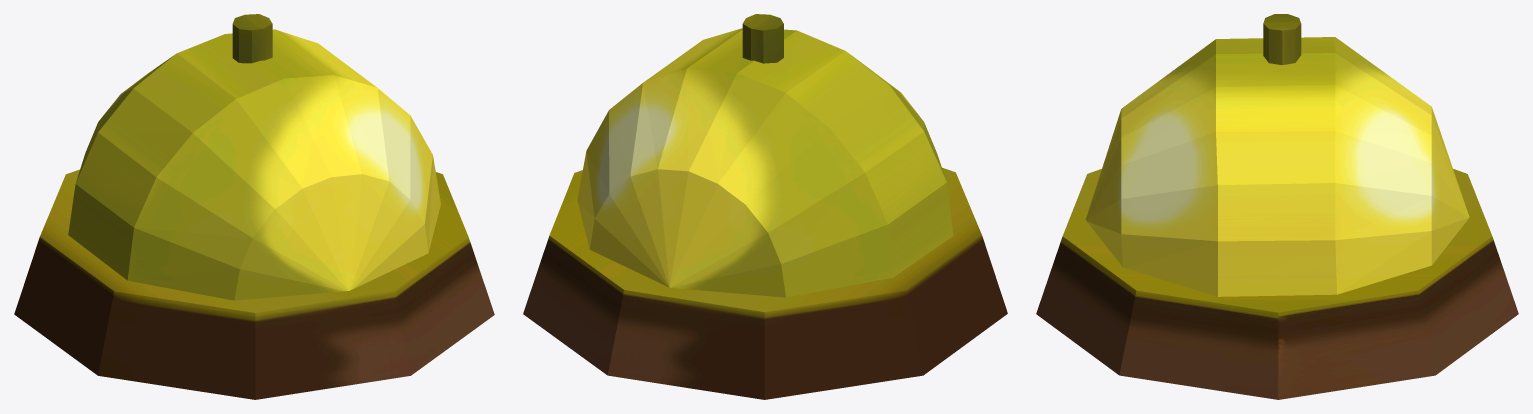
The model's file is bell.glb.
3 views of the same model, side by side, from view 1: azimuth 30°, elevation 25°; view 2: azimuth 150°, elevation 25°; view 3: azimuth 270°, elevation 25° (orthographic).
Parts seen in each view (by area): view 1: bell; view 2: bell; view 3: bell.
Part boxes in pixels (bbox=[...]): bell: bbox=[14, 14, 494, 399]; bell: bbox=[523, 14, 1007, 399]; bell: bbox=[1036, 14, 1518, 399].
Size of the model in its own units: 78.48 by 49.92 by 79.69.
Materials: 1 (1 with a texture image).
